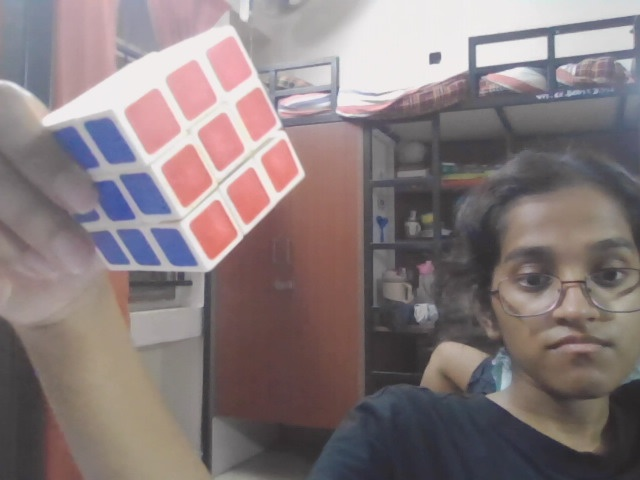rubiks_cube: (14, 26, 305, 271)
